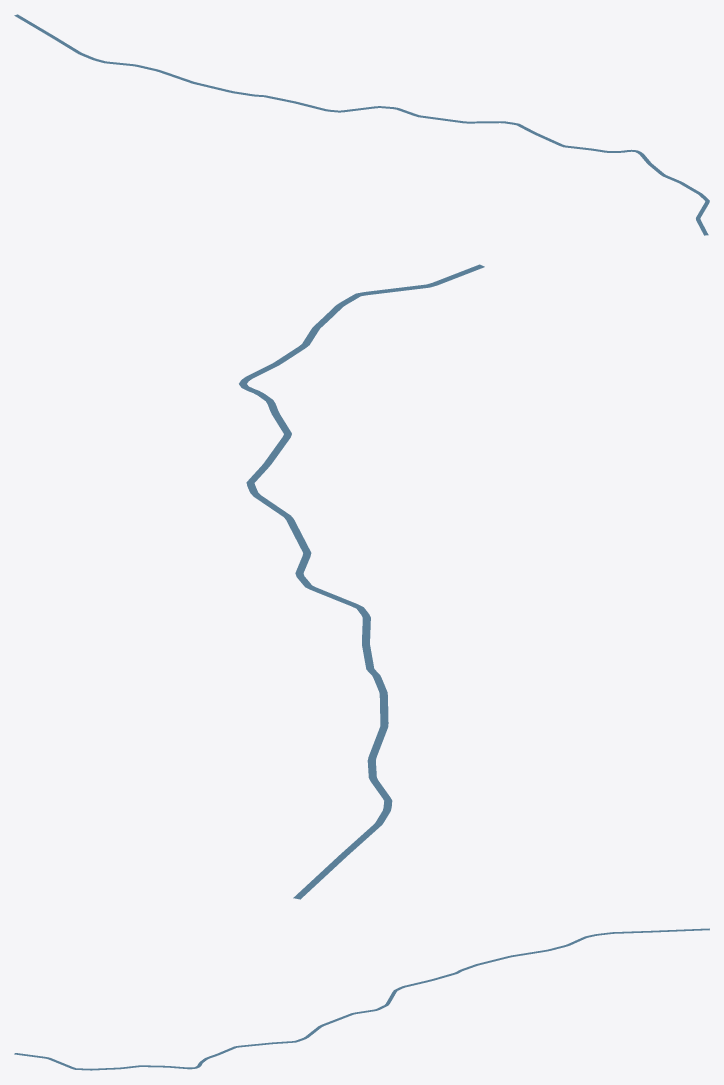
Rendered from c_1649_17831_water.glb.
3 renders of one model, top to bottom at view 1: azimuth 30°, elevation 25°; view 2: azimuth 150°, elevation 25°; view 3: azimuth 270°, elevation 25°, orthographic. The views are drawn at different scales.
Parts seen in each view (by area): view 1: geometry_0; view 2: geometry_0; view 3: geometry_0.
Boxes of the visible parts, box(x1,y1,x2,y2) form: geometry_0: box(14, 14, 709, 235); geometry_0: box(239, 264, 484, 899); geometry_0: box(14, 928, 709, 1070).
Bounding box in the file's own units: 495 × 0 × 1024.
